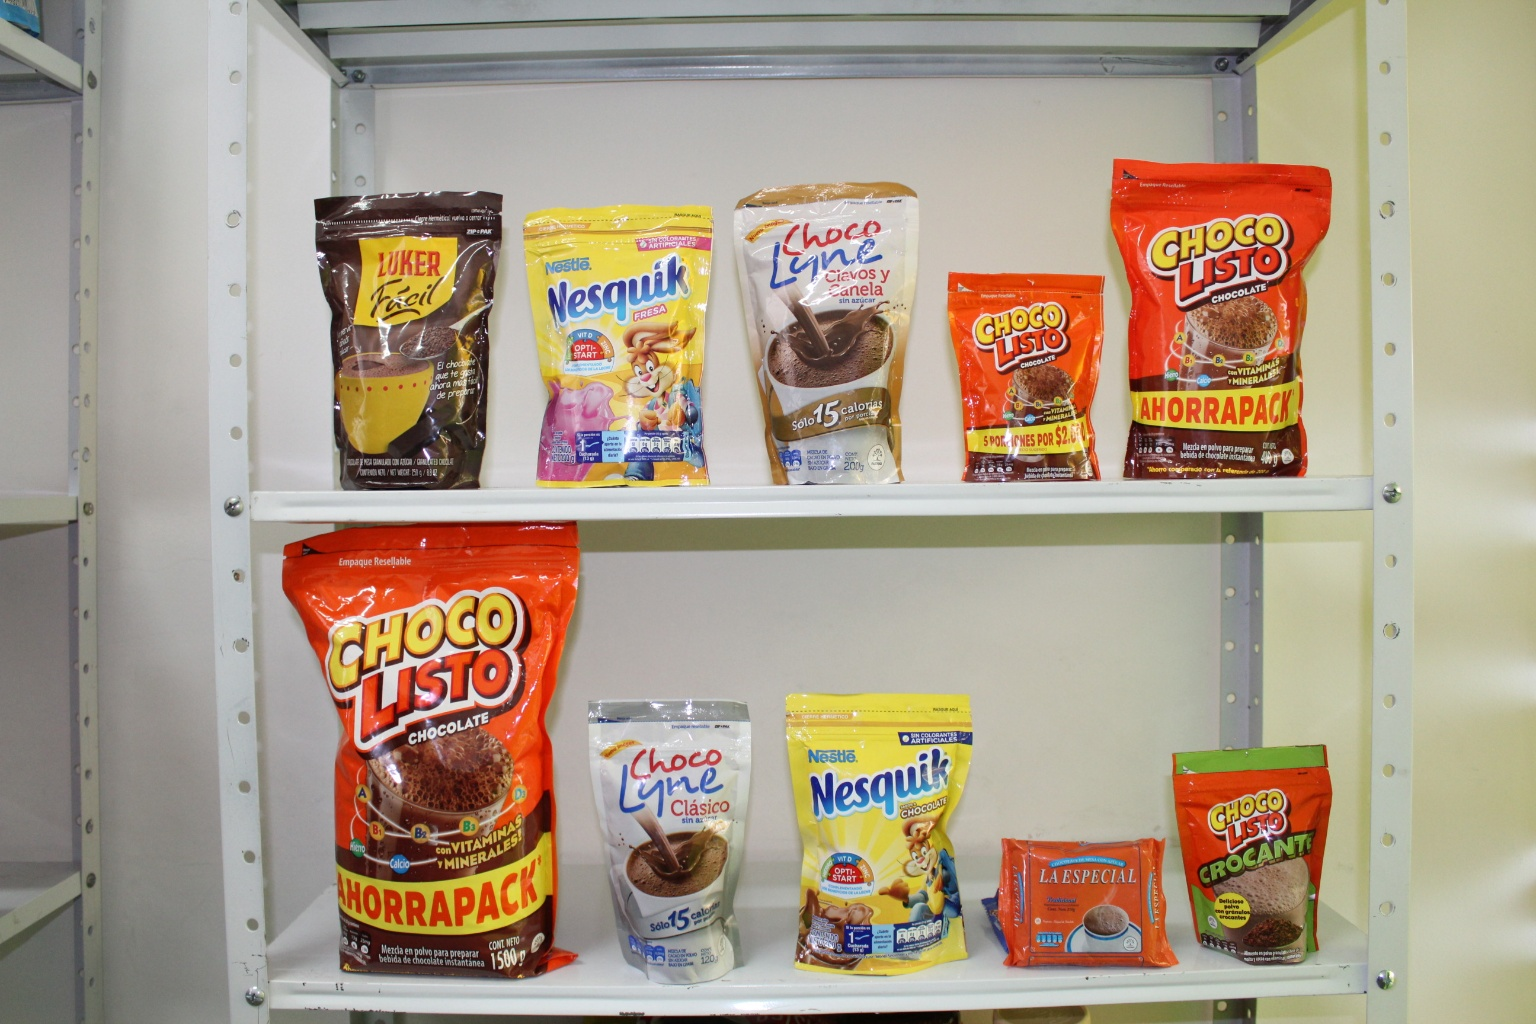COL0170102DYP10000: (1165, 741, 1367, 968)
COL0170103DYP1,500: (280, 523, 586, 985)
COL0170103DYP10000: (945, 267, 1106, 475)
COL0170103DYP40000: (1109, 137, 1346, 471)
COL0170303DYP20000: (787, 685, 982, 971)
COL0170305DYP20000: (520, 197, 715, 480)
